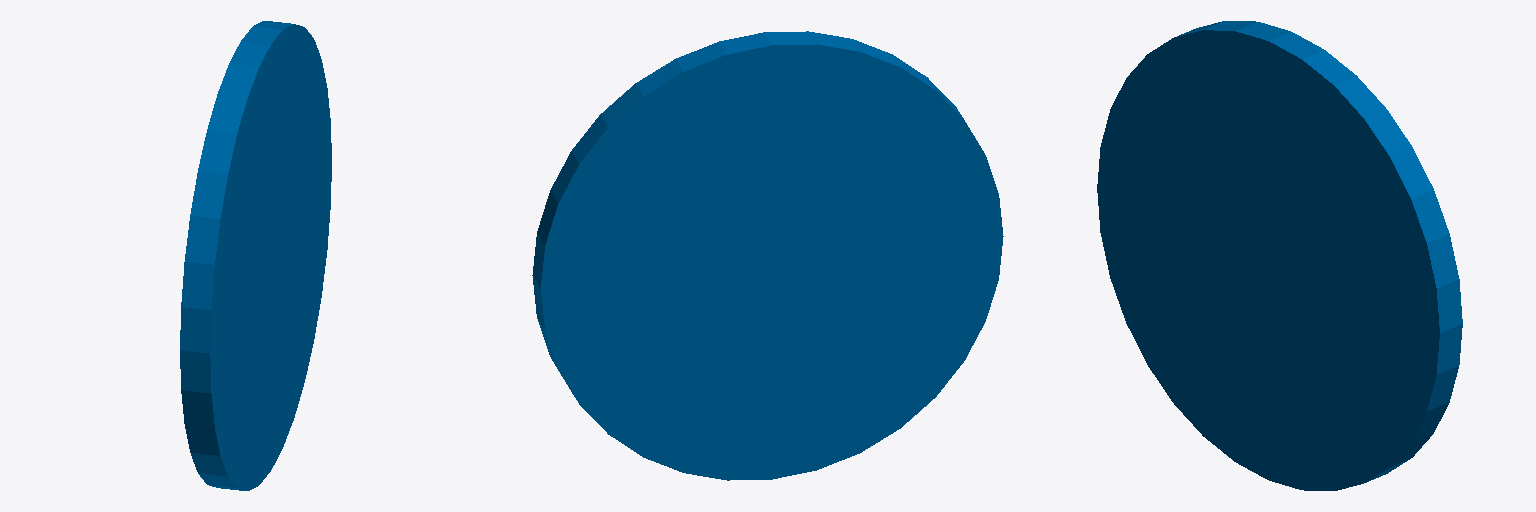
robot.urdf — panda_tray:
<?xml version="1.0" ?>
<!-- =================================================================================== -->
<!-- |    This document was autogenerated by xacro from panda_tray.urdf.xacro          | -->
<!-- |    EDITING THIS FILE BY HAND IS NOT RECOMMENDED                                 | -->
<!-- =================================================================================== -->
<robot name="panda_tray">
  <link name="panda_link0">
    <inertial>
      <origin rpy="0 0 0" xyz="0 0 0.05"/>
      <mass value="2.9"/>
      <inertia ixx="0.1" ixy="0" ixz="0" iyy="0.1" iyz="0" izz="0.1"/>
    </inertial>
    <visual>
      <geometry>
        <mesh filename="meshes/collision/link0.obj"/>
      </geometry>
      <material name="panda_white">
        <color rgba="1. 1. 1. 1."/>
      </material>
    </visual>
    <collision>
      <geometry>
        <mesh filename="meshes/collision/link0.obj"/>
      </geometry>
      <material name="panda_white"/>
    </collision>
  </link>
  <link name="panda_link1">
    <inertial>
      <origin rpy="0 0 0" xyz="0 -0.04 -0.05"/>
      <mass value="2.7"/>
      <inertia ixx="0.1" ixy="0" ixz="0" iyy="0.1" iyz="0" izz="0.1"/>
    </inertial>
    <visual>
      <geometry>
        <mesh filename="meshes/visual/link1.obj"/>
      </geometry>
      <material name="panda_white"/>
    </visual>
    <collision>
      <geometry>
        <mesh filename="meshes/collision/link1.obj"/>
      </geometry>
      <material name="panda_white"/>
    </collision>
  </link>
  <joint name="panda_joint1" type="revolute">
    <safety_controller k_position="100.0" k_velocity="40.0" soft_lower_limit="-2.8973" soft_upper_limit="2.8973"/>
    <origin rpy="0 0 0" xyz="0 0 0.333"/>
    <parent link="panda_link0"/>
    <child link="panda_link1"/>
    <axis xyz="0 0 1"/>
    <limit effort="87" lower="-2.9671" upper="2.9671" velocity="2.1750"/>
  </joint>
  <link name="panda_link2">
    <inertial>
      <origin rpy="0 0 0" xyz="0 -0.04 0.06"/>
      <mass value="2.73"/>
      <inertia ixx="0.1" ixy="0" ixz="0" iyy="0.1" iyz="0" izz="0.1"/>
    </inertial>
    <visual>
      <geometry>
        <mesh filename="meshes/visual/link2.obj"/>
      </geometry>
      <material name="panda_white"/>
    </visual>
    <collision>
      <geometry>
        <mesh filename="meshes/collision/link2.obj"/>
      </geometry>
      <material name="panda_white"/>
    </collision>
  </link>
  <joint name="panda_joint2" type="revolute">
    <safety_controller k_position="100.0" k_velocity="40.0" soft_lower_limit="-1.7628" soft_upper_limit="1.7628"/>
    <origin rpy="-1.57079632679 0 0" xyz="0 0 0"/>
    <parent link="panda_link1"/>
    <child link="panda_link2"/>
    <axis xyz="0 0 1"/>
    <limit effort="87" lower="-1.8326" upper="1.8326" velocity="2.1750"/>
  </joint>
  <link name="panda_link3">
    <inertial>
      <origin rpy="0 0 0" xyz="0.01 0.01 -0.05"/>
      <mass value="2.04"/>
      <inertia ixx="0.1" ixy="0" ixz="0" iyy="0.1" iyz="0" izz="0.1"/>
    </inertial>
    <visual>
      <geometry>
        <mesh filename="meshes/visual/link3.obj"/>
      </geometry>
      <material name="panda_red">
        <color rgba="1. 1. 1. 1."/>
      </material>
    </visual>
    <collision>
      <geometry>
        <mesh filename="meshes/collision/link3.obj"/>
      </geometry>
    </collision>
  </link>
  <joint name="panda_joint3" type="revolute">
    <safety_controller k_position="100.0" k_velocity="40.0" soft_lower_limit="-2.8973" soft_upper_limit="2.8973"/>
    <origin rpy="1.57079632679 0 0" xyz="0 -0.316 0"/>
    <parent link="panda_link2"/>
    <child link="panda_link3"/>
    <axis xyz="0 0 1"/>
    <limit effort="87" lower="-2.9671" upper="2.9671" velocity="2.1750"/>
  </joint>
  <link name="panda_link4">
    <inertial>
      <origin rpy="0 0 0" xyz="-0.03 0.03 0.02"/>
      <mass value="2.08"/>
      <inertia ixx="0.1" ixy="0" ixz="0" iyy="0.1" iyz="0" izz="0.1"/>
    </inertial>
    <visual>
      <geometry>
        <mesh filename="meshes/visual/link4.obj"/>
      </geometry>
      <material name="panda_white"/>
    </visual>
    <collision>
      <geometry>
        <mesh filename="meshes/collision/link4.obj"/>
      </geometry>
      <material name="panda_white"/>
    </collision>
  </link>
  <joint name="panda_joint4" type="revolute">
    <safety_controller k_position="100.0" k_velocity="40.0" soft_lower_limit="-3.0718" soft_upper_limit="-0.0698"/>
    <origin rpy="1.57079632679 0 0" xyz="0.0825 0 0"/>
    <parent link="panda_link3"/>
    <child link="panda_link4"/>
    <axis xyz="0 0 1"/>
    <limit effort="87" lower="-3.1416" upper="0.0" velocity="2.1750"/>
  </joint>
  <link name="panda_link5">
    <inertial>
      <origin rpy="0 0 0" xyz="0 0.04 -0.12"/>
      <mass value="3"/>
      <inertia ixx="0.1" ixy="0" ixz="0" iyy="0.1" iyz="0" izz="0.1"/>
    </inertial>
    <visual>
      <geometry>
        <mesh filename="meshes/visual/link5.obj"/>
      </geometry>
      <material name="panda_white"/>
    </visual>
    <collision>
      <geometry>
        <mesh filename="meshes/collision/link5.obj"/>
      </geometry>
      <material name="panda_white"/>
    </collision>
  </link>
  <joint name="panda_joint5" type="revolute">
    <safety_controller k_position="100.0" k_velocity="40.0" soft_lower_limit="-2.8973" soft_upper_limit="2.8973"/>
    <origin rpy="-1.57079632679 0 0" xyz="-0.0825 0.384 0"/>
    <parent link="panda_link4"/>
    <child link="panda_link5"/>
    <axis xyz="0 0 1"/>
    <limit effort="12" lower="-2.9671" upper="2.9671" velocity="2.6100"/>
  </joint>
  <link name="panda_link6">
    <inertial>
      <origin rpy="0 0 0" xyz="0.04 0 0"/>
      <mass value="1.3"/>
      <inertia ixx="0.1" ixy="0" ixz="0" iyy="0.1" iyz="0" izz="0.1"/>
    </inertial>
    <visual>
      <geometry>
        <mesh filename="meshes/visual/link6.obj"/>
      </geometry>
      <material name="panda_white"/>
    </visual>
    <collision>
      <geometry>
        <mesh filename="meshes/collision/link6.obj"/>
      </geometry>
      <material name="panda_white"/>
    </collision>
  </link>
  <joint name="panda_joint6" type="revolute">
    <safety_controller k_position="100.0" k_velocity="40.0" soft_lower_limit="-0.0175" soft_upper_limit="3.7525"/>
    <origin rpy="1.57079632679 0 0" xyz="0 0 0"/>
    <parent link="panda_link5"/>
    <child link="panda_link6"/>
    <axis xyz="0 0 1"/>
    <limit effort="12" lower="-0.0873" upper="3.8223" velocity="2.6100"/>
  </joint>
  <link name="panda_link7">
    <inertial>
      <origin rpy="0 0 0" xyz="0 0 0.08"/>
      <mass value=".2"/>
      <inertia ixx="0.1" ixy="0" ixz="0" iyy="0.1" iyz="0" izz="0.1"/>
    </inertial>
    <visual>
      <geometry>
        <mesh filename="meshes/collision/link7.obj"/>
      </geometry>
      <material name="panda_white"/>
    </visual>
    <collision>
      <geometry>
        <mesh filename="meshes/collision/link7.obj"/>
      </geometry>
      <material name="panda_white"/>
    </collision>
  </link>
  <joint name="panda_joint7" type="revolute">
    <safety_controller k_position="100.0" k_velocity="40.0" soft_lower_limit="-2.8973" soft_upper_limit="2.8973"/>
    <origin rpy="1.57079632679 0 0" xyz="0.088 0 0"/>
    <parent link="panda_link6"/>
    <child link="panda_link7"/>
    <axis xyz="0 0 1"/>
    <limit effort="12" lower="-2.9671" upper="2.9671" velocity="2.6100"/>
  </joint>
  <link name="panda_link8">
    <inertial>
      <origin rpy="0 0 0" xyz="0 0 0"/>
      <mass value="0.0"/>
      <inertia ixx="0.1" ixy="0" ixz="0" iyy="0.1" iyz="0" izz="0.1"/>
    </inertial>
  </link>
  <joint name="panda_joint8" type="fixed">
    <origin rpy="0 0 0" xyz="0 0 0.107"/>
    <parent link="panda_link7"/>
    <child link="panda_link8"/>
    <axis xyz="0 0 0"/>
  </joint>
  <joint name="panda_hand_joint" type="fixed">
    <parent link="panda_link8"/>
    <child link="panda_hand"/>
    <origin rpy="0 0 -0.785398163397" xyz="0 0 0"/>
  </joint>
  <link name="panda_hand">
    <inertial>
      <origin rpy="0 0 0" xyz="0 0 0.04"/>
      <mass value=".81"/>
      <inertia ixx="0.1" ixy="0" ixz="0" iyy="0.1" iyz="0" izz="0.1"/>
    </inertial>
    <visual>
      <geometry>
        <mesh filename="meshes/visual/hand.obj"/>
      </geometry>
      <material name="panda_white"/>
    </visual>
    <collision>
      <geometry>
        <mesh filename="meshes/collision/hand.obj"/>
      </geometry>
      <material name="panda_white"/>
    </collision>
  </link>
  <link name="panda_leftfinger">
    <contact>
      <friction_anchor/>
      <stiffness value="30000.0"/>
      <damping value="1000.0"/>
      <spinning_friction value="0.1"/>
      <lateral_friction value="1.0"/>
    </contact>
    <inertial>
      <origin rpy="0 0 0" xyz="0 0.01 0.02"/>
      <mass value="0.1"/>
      <inertia ixx="0.1" ixy="0" ixz="0" iyy="0.1" iyz="0" izz="0.1"/>
    </inertial>
    <visual>
      <geometry>
        <mesh filename="meshes/visual/finger.obj"/>
      </geometry>
      <material name="panda_white"/>
    </visual>
    <collision>
      <geometry>
        <mesh filename="meshes/collision/finger.obj"/>
      </geometry>
      <material name="panda_white"/>
    </collision>
  </link>
  <link name="panda_rightfinger">
    <contact>
      <friction_anchor/>
      <stiffness value="30000.0"/>
      <damping value="1000.0"/>
      <spinning_friction value="0.1"/>
      <lateral_friction value="1.0"/>
    </contact>
    <inertial>
      <origin rpy="0 0 0" xyz="0 -0.01 0.02"/>
      <mass value="0.1"/>
      <inertia ixx="0.1" ixy="0" ixz="0" iyy="0.1" iyz="0" izz="0.1"/>
    </inertial>
    <visual>
      <origin rpy="0 0 3.14159265359" xyz="0 0 0"/>
      <geometry>
        <mesh filename="meshes/visual/finger.obj"/>
      </geometry>
      <material name="panda_white"/>
    </visual>
    <collision>
      <origin rpy="0 0 3.14159265359" xyz="0 0 0"/>
      <geometry>
        <mesh filename="meshes/collision/finger.obj"/>
      </geometry>
      <material name="panda_white"/>
    </collision>
  </link>
  <!-- <joint name="panda_finger_joint1" type="prismatic"> -->
  <joint name="panda_finger_joint1" type="fixed">
    <parent link="panda_hand"/>
    <child link="panda_leftfinger"/>
    <origin rpy="0 0 0" xyz="0 0 0.0584"/>
    <axis xyz="0 1 0"/>
    <limit effort="20" lower="0.0" upper="0.04" velocity="0.2"/>
  </joint>
  <!-- <joint name="panda_finger_joint2" type="prismatic"> -->
  <joint name="panda_finger_joint2" type="fixed">
    <parent link="panda_hand"/>
    <child link="panda_rightfinger"/>
    <origin rpy="0 0 0" xyz="0 0 0.0584"/>
    <axis xyz="0 -1 0"/>
    <limit effort="20" lower="0.0" upper="0.04" velocity="0.2"/>
    <mimic joint="panda_finger_joint1"/>
  </joint>
  <link name="tray_link">
    <visual>
      <origin rpy="0 0 0" xyz="0 0 0"/>
      <geometry>
        <cylinder length="0.02" radius="0.15"/>
      </geometry>
      <material name="black"/>
    </visual>
    <collision>
      <origin rpy="0 0 0" xyz="0 0 0"/>
      <geometry>
        <cylinder length="0.02" radius="0.15"/>
      </geometry>
    </collision>
  </link>
  <joint name="tray_joint" type="fixed">
    <origin rpy="-1.5708 -1.5708 0.0" xyz="0.0 0.0 0.25"/>
    <parent link="panda_hand"/>
    <child link="tray_link"/>
  </joint>
</robot>

--- What the picture shows (computed from the rendered views, not written in the file) ---
The picture shows the robot from 3 angles, left to right: view 1: azimuth 30°, elevation 25°; view 2: azimuth 150°, elevation 25°; view 3: azimuth 270°, elevation 25°; orthographic projection.
Robot: panda_tray — 13 links, 12 joints (7 revolute, 5 fixed); root link panda_link0; default pose: every joint at zero.
Visible links, largest first — view 1: tray_link; view 2: tray_link; view 3: tray_link.
Boxes of the visible links, left/top/right/bottom form: tray_link: left=180, top=21, right=331, bottom=490; tray_link: left=532, top=31, right=1003, bottom=480; tray_link: left=1097, top=21, right=1462, bottom=490.
Bounding box of the posed robot: 0.2263 × 0.2263 × 0.3 m (x, y, z).
Meshes: 10 distinct files referenced, 0 mesh visuals loaded (none loaded); not drawn: 11 (reference not matched to a file when rendering).